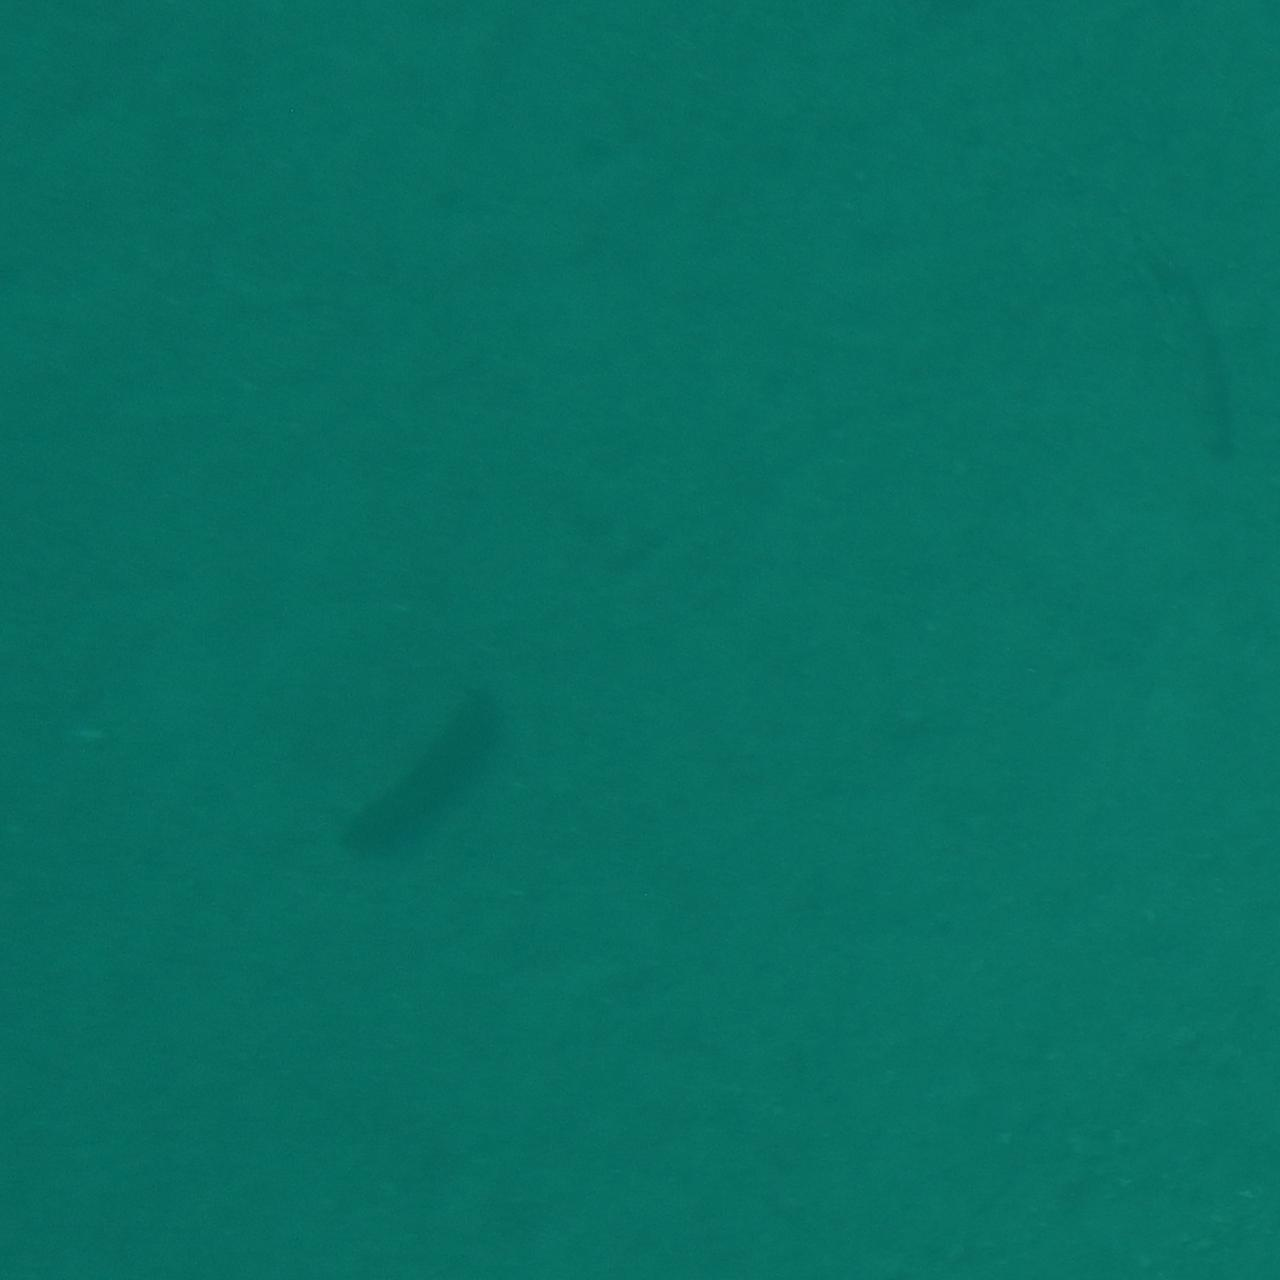Holothuria tubulosa: (325, 679, 531, 892), (266, 0, 572, 101), (1133, 243, 1252, 471), (520, 1206, 723, 1280), (0, 1233, 223, 1280)
